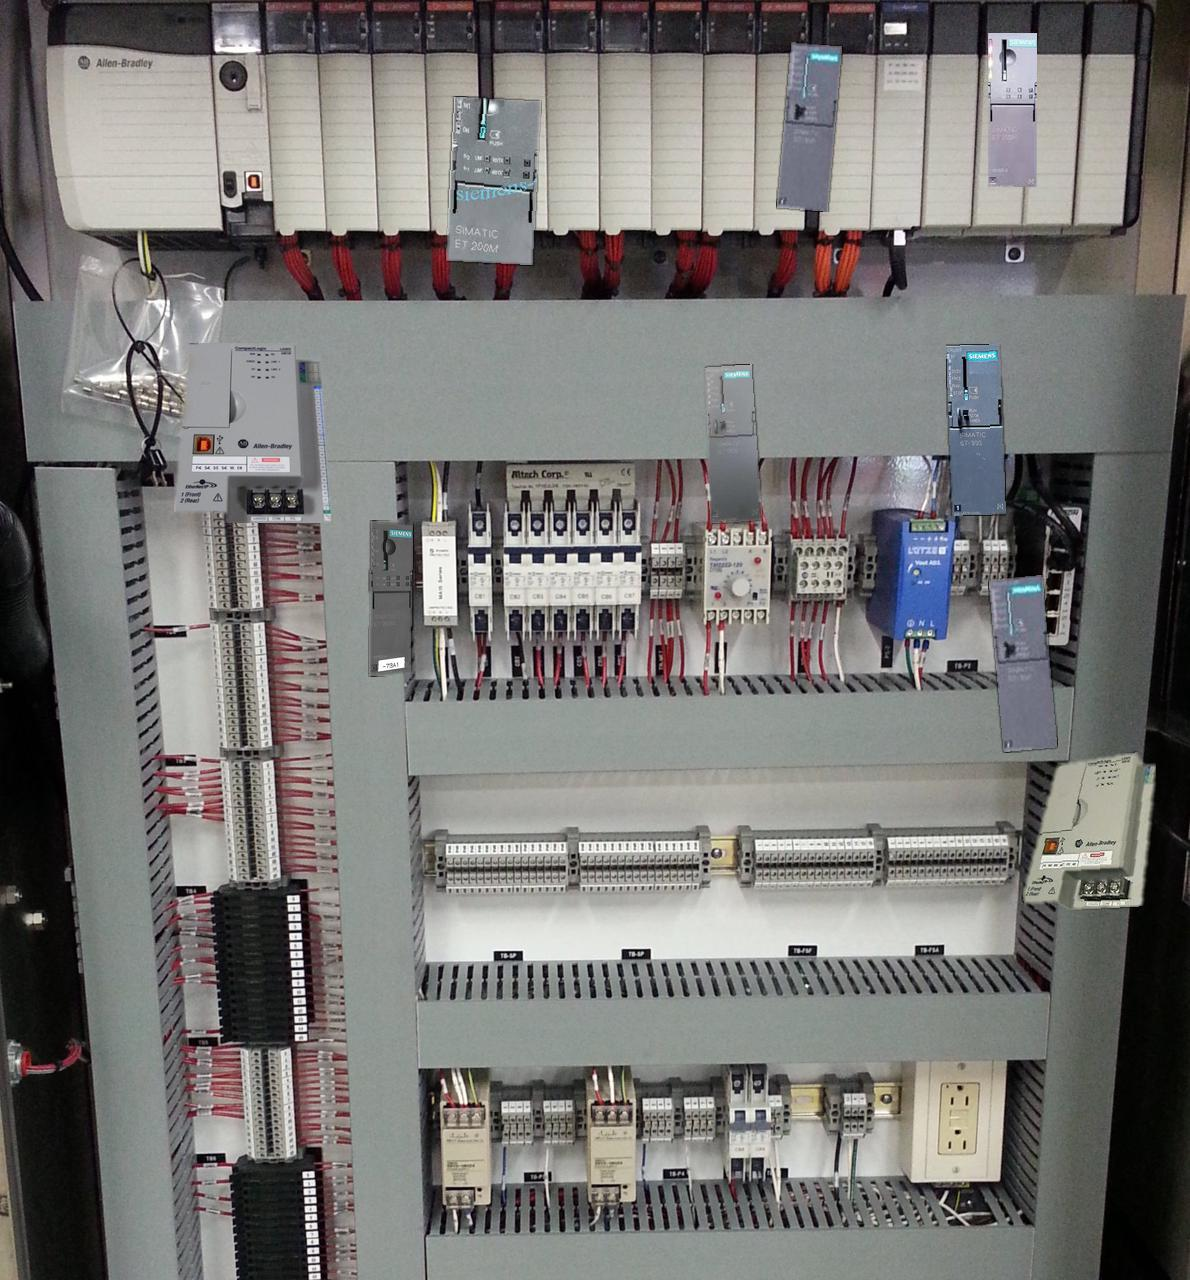AllenBradley: (174, 343, 330, 522), (1023, 752, 1155, 908)
Siemens: (989, 575, 1056, 751), (777, 42, 841, 211), (946, 344, 1005, 515), (705, 364, 761, 522)
